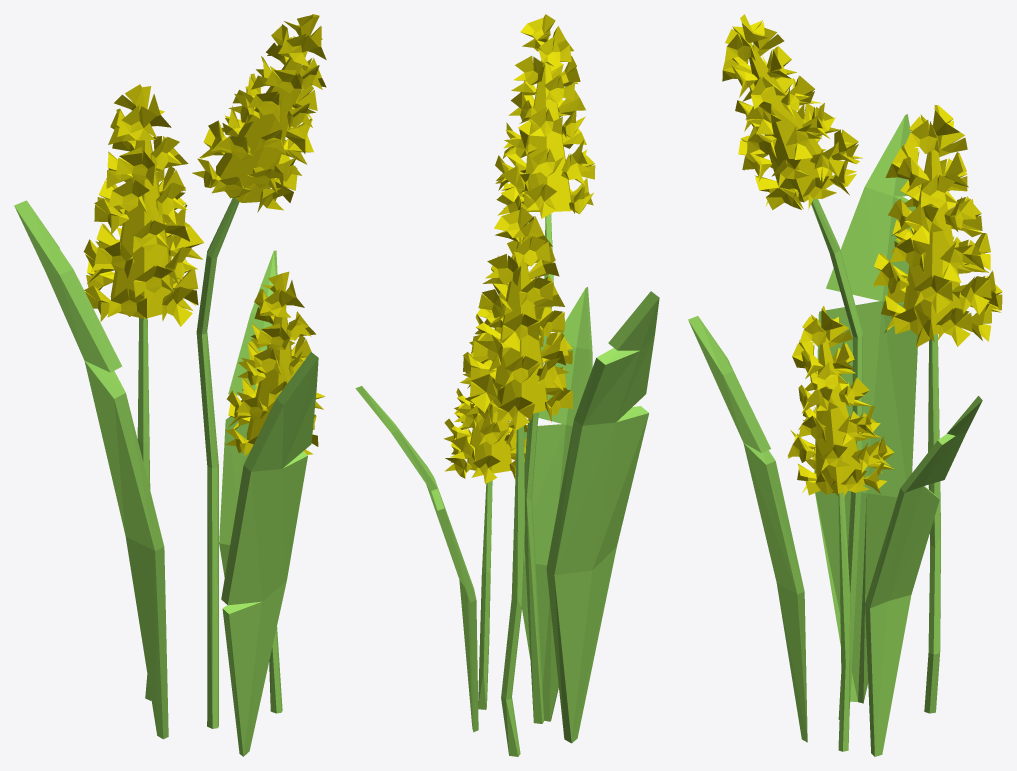
File: flower_02.fbx
The picture shows the model from 3 angles, left to right: view 1: azimuth 30°, elevation 25°; view 2: azimuth 150°, elevation 25°; view 3: azimuth 270°, elevation 25°; orthographic projection. The views are drawn at different scales.
Visible parts, largest first — view 1: flower_02; view 2: flower_02; view 3: flower_02.
Part boxes in pixels (bbox=[...]): flower_02: bbox=[14, 14, 326, 756]; flower_02: bbox=[355, 14, 659, 756]; flower_02: bbox=[688, 14, 1002, 756].
Bounding box in the file's own units: 27.29 × 65.55 × 25.31.
